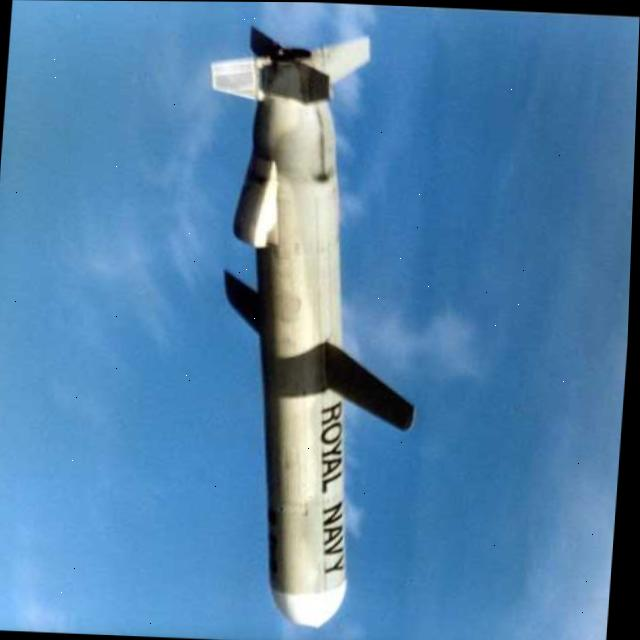missile: (167, 29, 444, 635)
